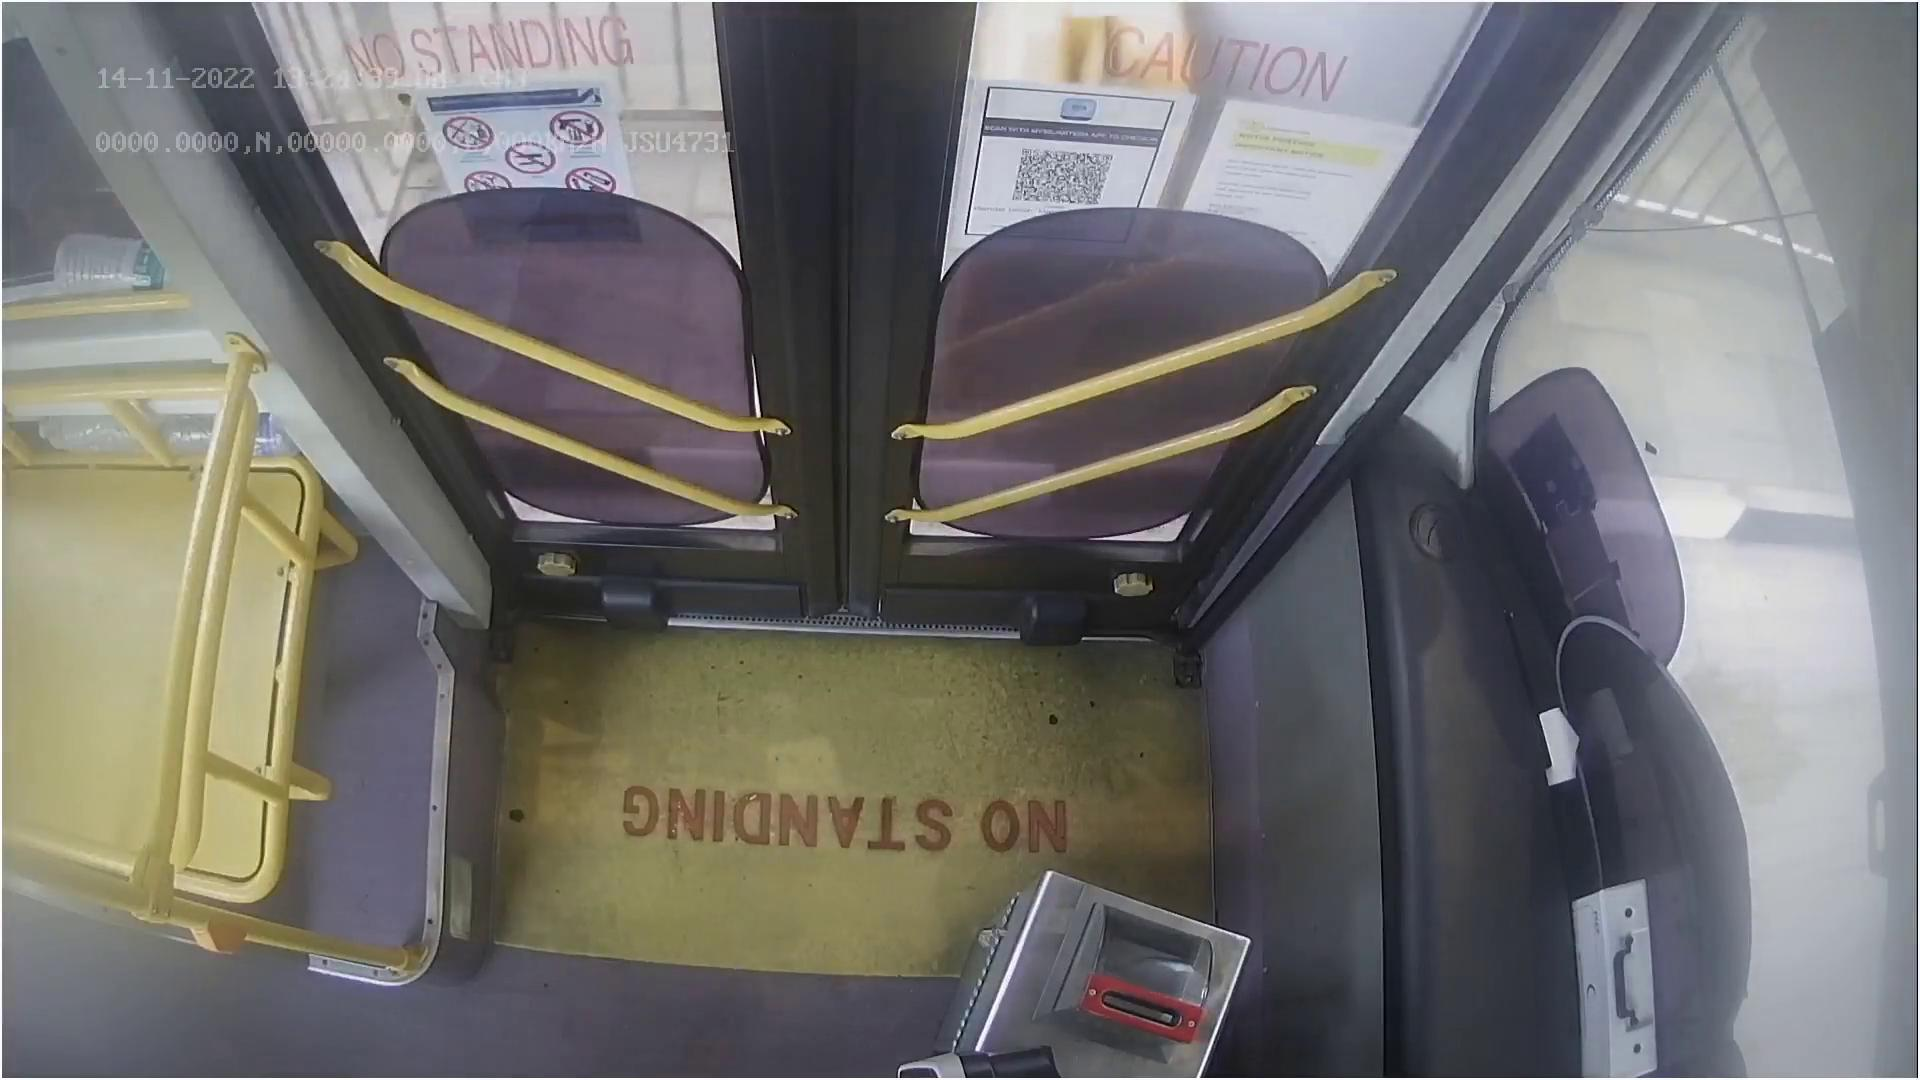close: (286, 0, 1448, 160)
